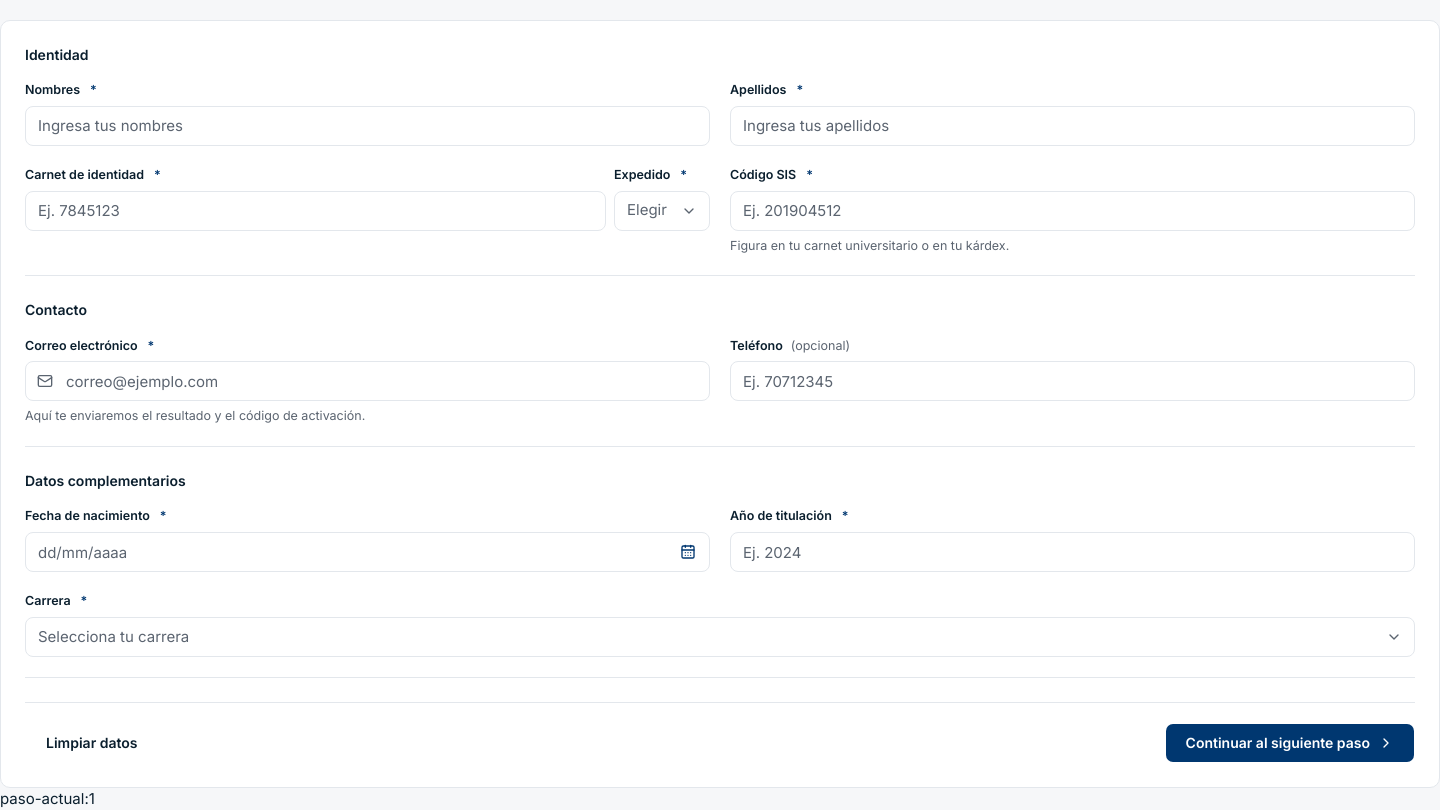
Test: PersonalDataForm: guardado del borrador › al editar un campo se borra su propio error y no el de los demás
(page scrolled)
Click the button "Continuar al siguiente paso".
click(1290, 743)  # box 1165,723 -> 1415,763
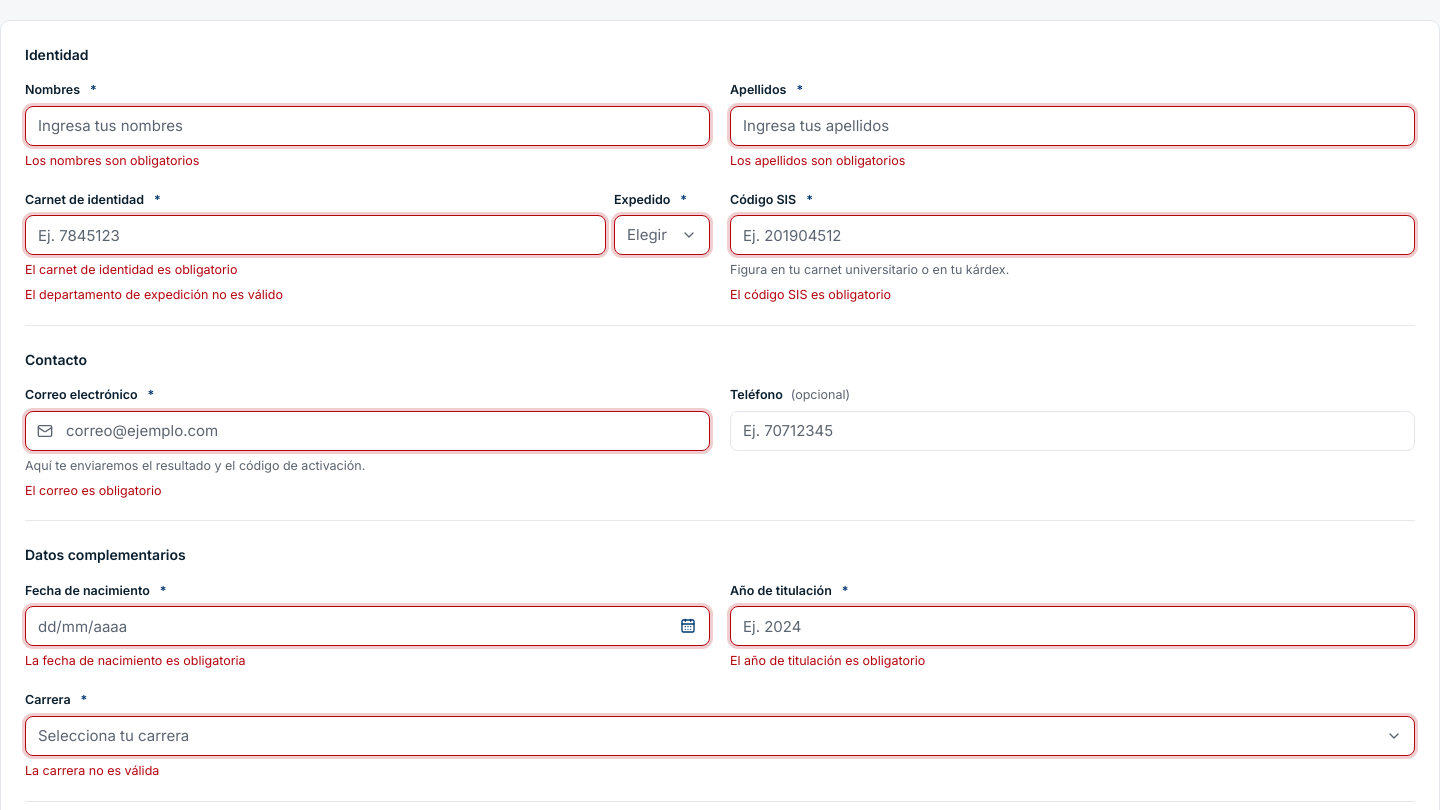
Type "Ana" into the field labelled "Nombres *".
click(368, 126); type("Ana")  # box 25,106 -> 710,146
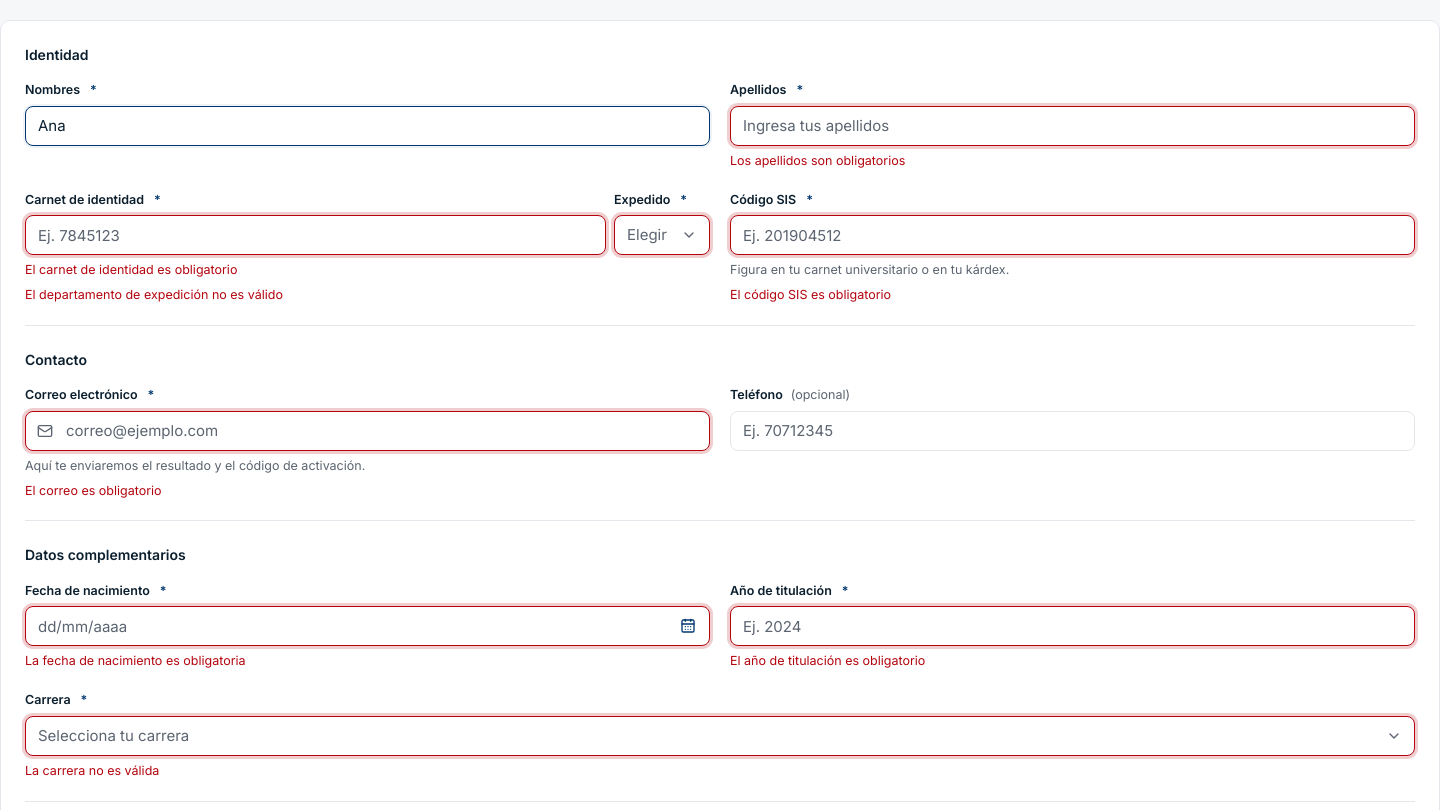
Now the text "Los apellidos son obligatorios" is shown, box 730,153 -> 905,168
Now the text "Los nombres son obligatorios" is gone
